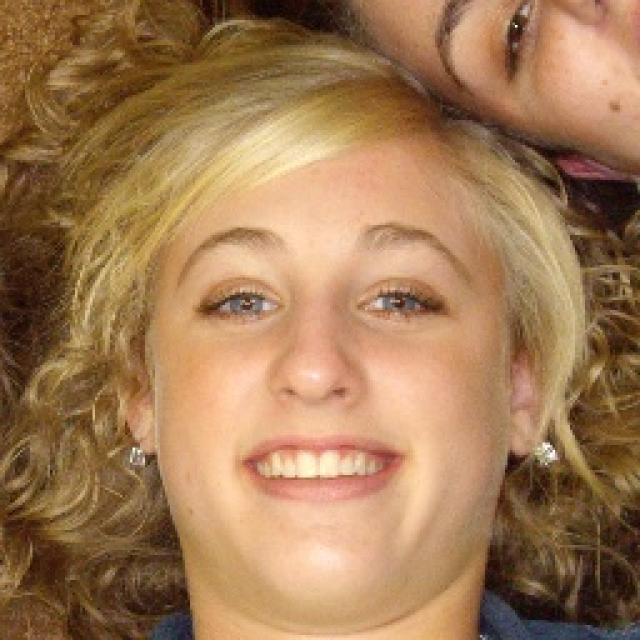earlobe: (508, 409, 544, 459), (126, 407, 160, 457)
eye: (199, 290, 286, 324), (502, 2, 542, 67), (364, 287, 438, 322)
nose: (270, 392, 362, 426)
wholeear: (508, 307, 556, 459), (110, 323, 160, 456)
